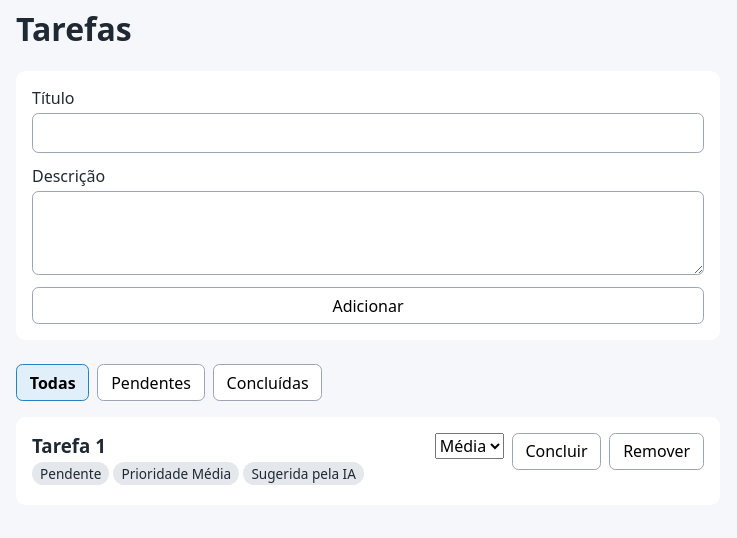
App › ação sobre tarefa já removida mostra erro amigável e atualiza a lista
Expected: the heading "Tarefa 1" is shown, [32,433,106,458]
Click the button "Concluir": (556, 451) [512,433,601,470]
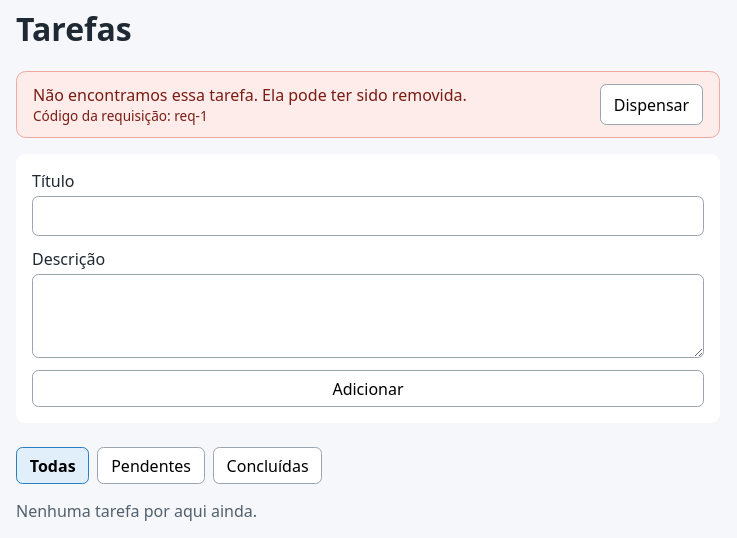
Result: the message shows "Não encontramos essa tarefa. Ela pode ter sido removida." at [33,84,467,106]
Result: the heading "Tarefa 1" is gone
Click the button "Dispensar": (651, 105) [600,84,703,125]
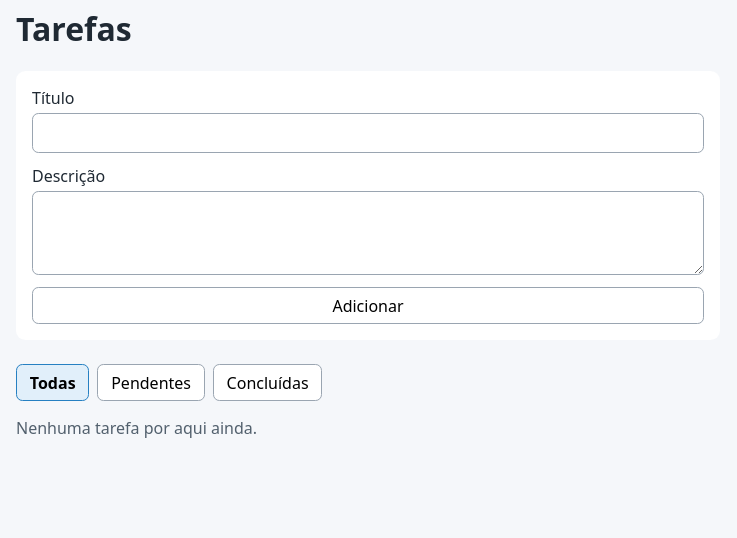
Result: the message is gone
